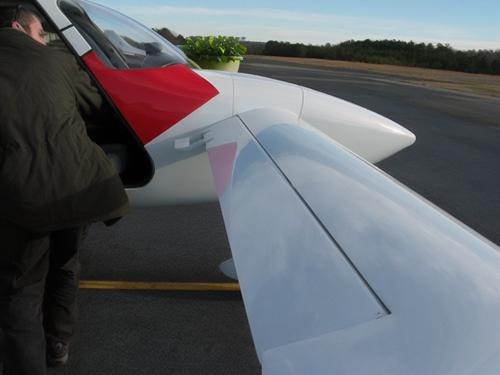aeroplane: (1, 4, 493, 375)
person: (1, 14, 125, 375)
person/foot: (46, 340, 71, 366)
person/head: (1, 5, 47, 47)
pottedplant: (185, 36, 245, 70)
